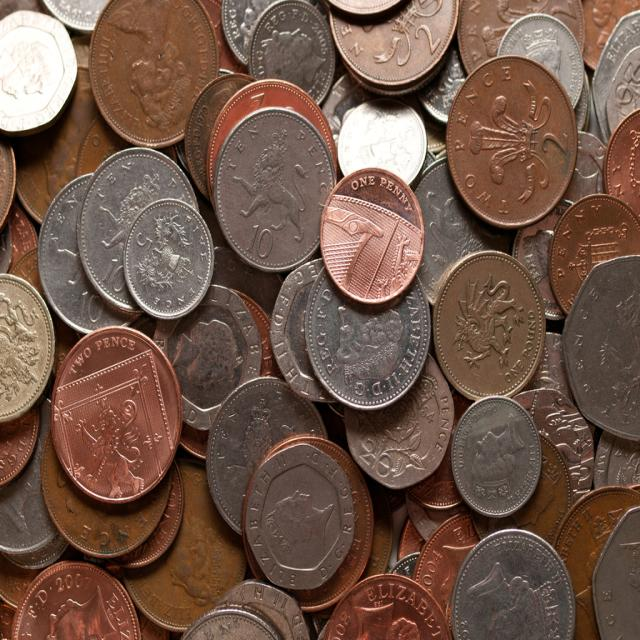Coin: (0, 0, 640, 639), (55, 144, 216, 335)
